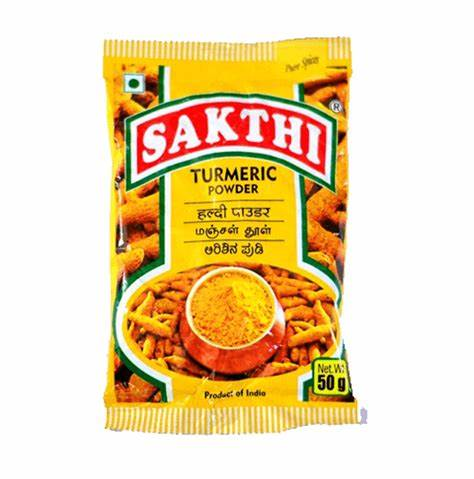VEG: (122, 73, 146, 93)
